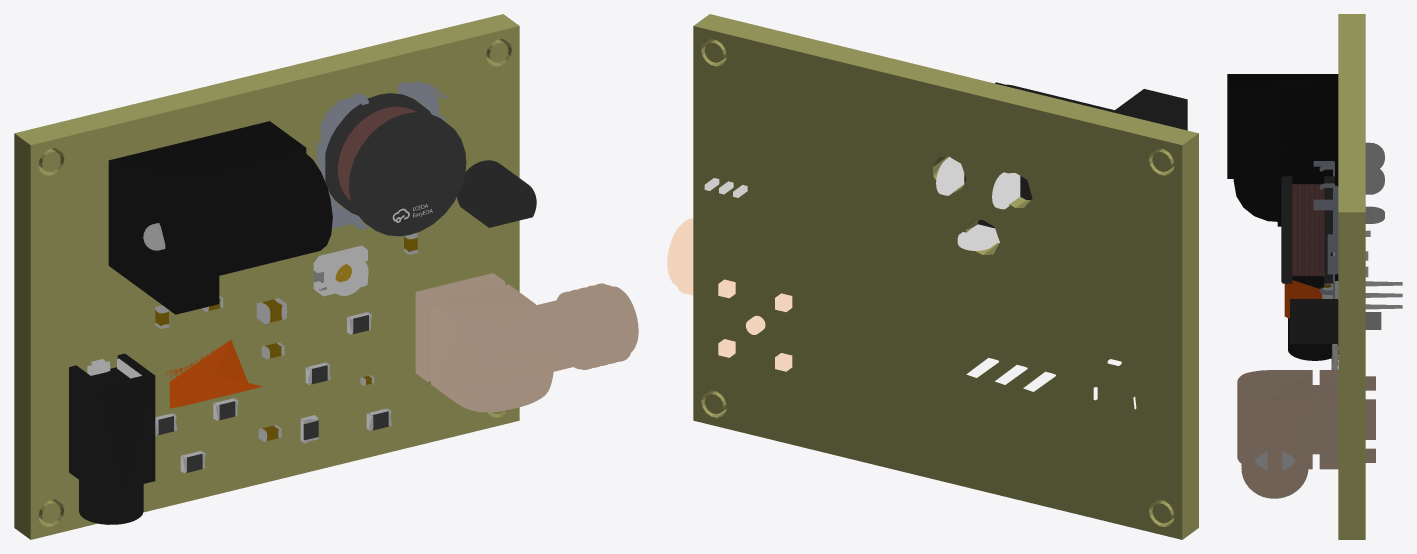
File: pcb-parts.obj
3 renders of one model, left to right at view 1: azimuth 30°, elevation 25°; view 2: azimuth 150°, elevation 25°; view 3: azimuth 270°, elevation 25°, orthographic. The views are drawn at different scales.
Visible parts, largest first — view 1: mtl1_1, mtl11_1, mtl7_1, mtl13_1, mtl21_1, mtl19_1, mtl17_1, mtl15_1, mtl3_1, mtl14_1; view 2: mtl1_1, mtl7_1, mtl11_1, mtl12_1, mtl18_1; view 3: mtl1_1, mtl11_1, mtl7_1, mtl14_1, mtl13_1, mtl19_1, mtl15_1, mtl12_1, mtl21_1, mtl17_1, mtl18_1, mtl8_1 (+1 smaller).
Boxes of the visible parts, left/top/right/bottom form: mtl1_1: left=14, top=14, right=519, bottom=539; mtl11_1: left=108, top=121, right=332, bottom=314; mtl7_1: left=415, top=273, right=638, bottom=412; mtl13_1: left=325, top=93, right=466, bottom=236; mtl21_1: left=69, top=353, right=155, bottom=524; mtl19_1: left=457, top=160, right=536, bottom=227; mtl17_1: left=162, top=340, right=262, bottom=408; mtl15_1: left=317, top=81, right=447, bottom=229; mtl3_1: left=313, top=245, right=368, bottom=296; mtl14_1: left=338, top=106, right=415, bottom=200; mtl1_1: left=693, top=14, right=1198, bottom=539; mtl7_1: left=667, top=218, right=792, bottom=371; mtl11_1: left=964, top=82, right=1187, bottom=228; mtl12_1: left=936, top=157, right=1020, bottom=250; mtl18_1: left=966, top=358, right=1055, bottom=391; mtl1_1: left=1338, top=14, right=1365, bottom=539; mtl11_1: left=1227, top=74, right=1338, bottom=226; mtl7_1: left=1237, top=370, right=1375, bottom=498; mtl14_1: left=1292, top=184, right=1324, bottom=276; mtl13_1: left=1281, top=176, right=1334, bottom=283; mtl19_1: left=1290, top=299, right=1338, bottom=343; mtl15_1: left=1313, top=161, right=1338, bottom=298; mtl12_1: left=1365, top=142, right=1384, bottom=223; mtl21_1: left=1288, top=274, right=1338, bottom=360; mtl17_1: left=1284, top=280, right=1322, bottom=318; mtl18_1: left=1365, top=281, right=1402, bottom=309; mtl8_1: left=1254, top=451, right=1295, bottom=469.
Size of the model in its own units: 195 by 133 by 64.37.
